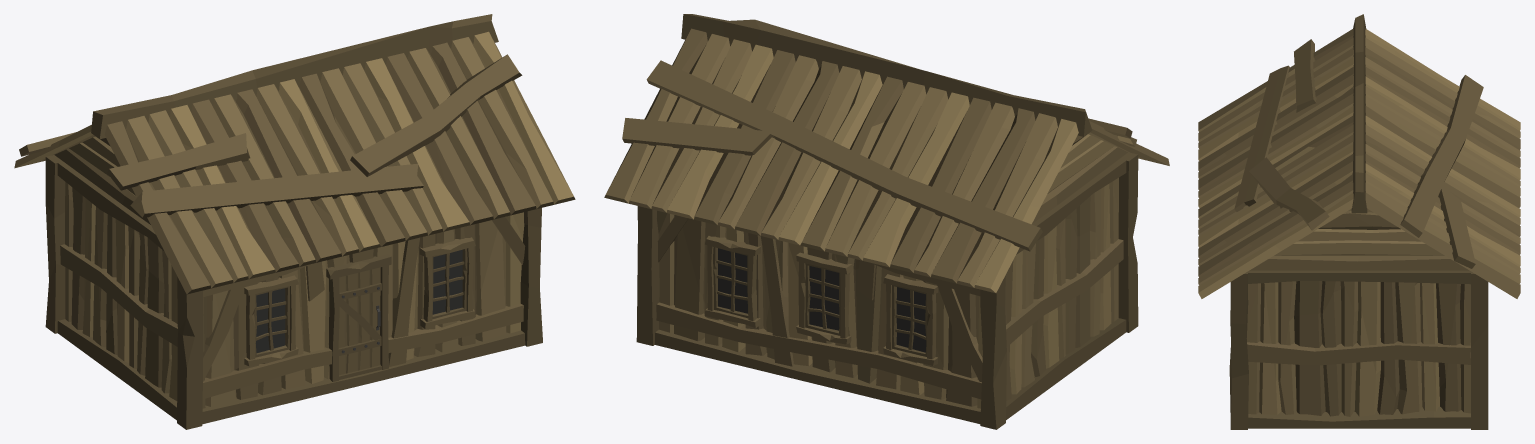
The model's file is Hut.fbx.
3 renders of one model, left to right at view 1: azimuth 30°, elevation 25°; view 2: azimuth 150°, elevation 25°; view 3: azimuth 270°, elevation 25°, orthographic. The views are drawn at different scales.
Visible parts, largest first — view 1: Hut; view 2: Hut; view 3: Hut.
Part boxes in pixels (<box>): Hut: <box>14,14,575,429</box>; Hut: <box>604,14,1169,429</box>; Hut: <box>1198,14,1520,429</box>.
Size of the model in its own units: 974 by 618 by 711.
